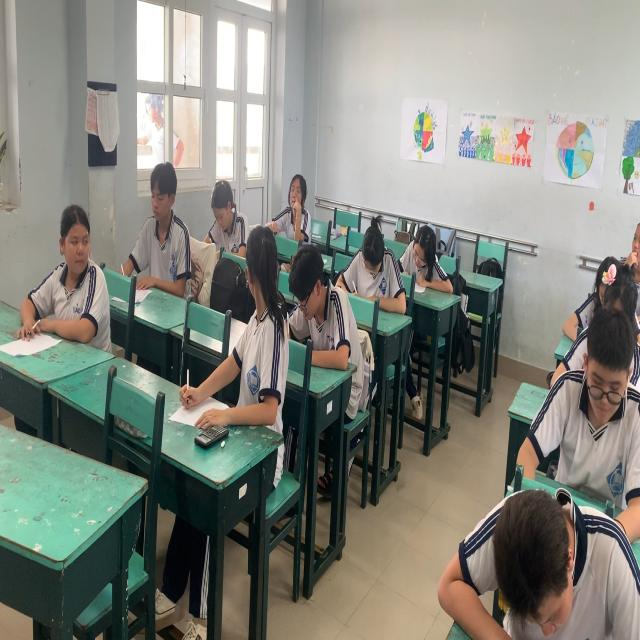cheating: (43, 200, 113, 354), (235, 221, 287, 424)
not_cheating: (483, 463, 603, 640), (584, 258, 638, 444), (287, 242, 358, 365), (137, 152, 185, 305), (348, 215, 403, 319), (203, 170, 250, 257), (406, 215, 446, 302), (278, 154, 315, 243)
